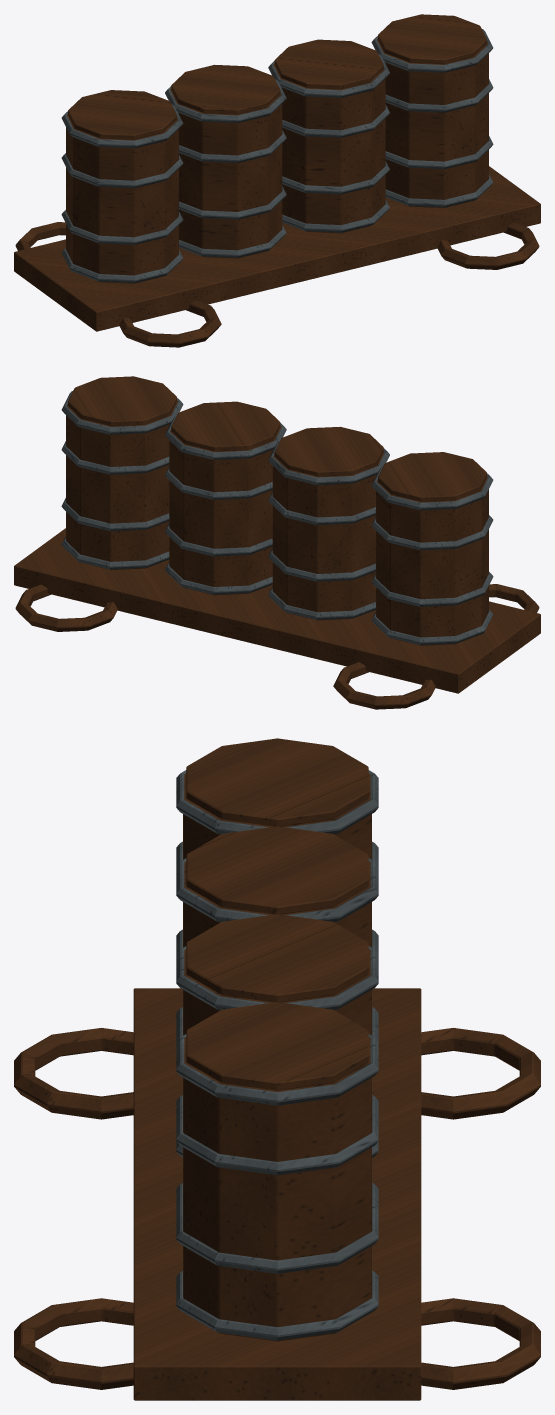
The model's file is PROP-77A6C5843E47_lod1.glb.
The picture shows the model from 3 angles, top to bottom: view 1: azimuth 30°, elevation 25°; view 2: azimuth 150°, elevation 25°; view 3: azimuth 270°, elevation 25°; orthographic projection. The views are drawn at different scales.
Visible parts, largest first — view 1: barrel_body.004, wagon_deck.001, barrel_lid.004, barrel_ribs.004, wagon_wheels.001; view 2: barrel_body.004, wagon_deck.001, barrel_lid.004, barrel_ribs.004, wagon_wheels.001; view 3: wagon_deck.001, barrel_lid.004, barrel_body.004, wagon_wheels.001, barrel_ribs.004.
Part boxes in pixels (box(x1,y1,x2,y2)): barrel_body.004: box(66, 38, 488, 283); wagon_deck.001: box(14, 166, 540, 331); barrel_lid.004: box(68, 14, 486, 139); barrel_ribs.004: box(61, 29, 493, 283); wagon_wheels.001: box(15, 222, 539, 347); barrel_body.004: box(66, 400, 488, 645); wagon_deck.001: box(14, 528, 540, 693); barrel_lid.004: box(68, 376, 486, 501); barrel_ribs.004: box(61, 391, 493, 645); wagon_wheels.001: box(15, 584, 539, 709); wagon_deck.001: box(133, 988, 421, 1400); barrel_lid.004: box(186, 738, 368, 1090); barrel_body.004: box(183, 773, 371, 1341); wagon_wheels.001: box(14, 1028, 540, 1389); barrel_ribs.004: box(176, 770, 378, 1340).
Size of the model in its own units: 2.8 by 1.07 by 1.65.
2 materials, 2 textured.
